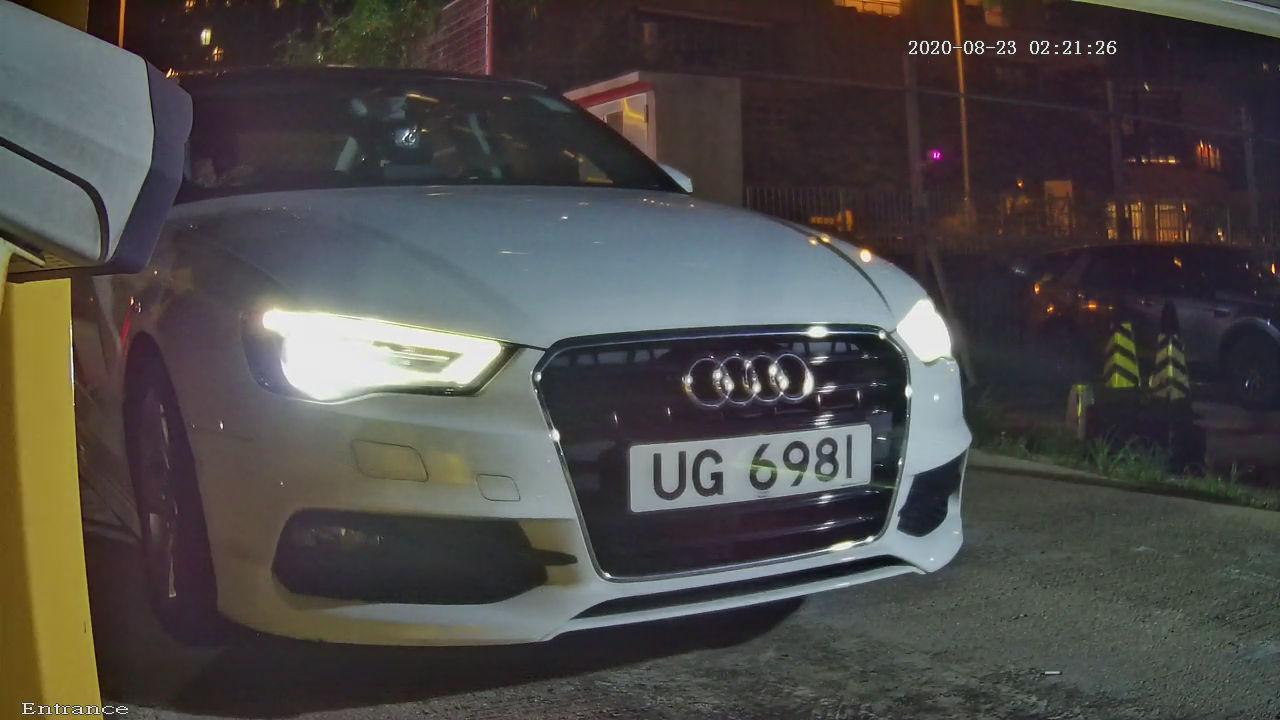Car: (46, 20, 1086, 685)
License Plate: (585, 390, 904, 561)
